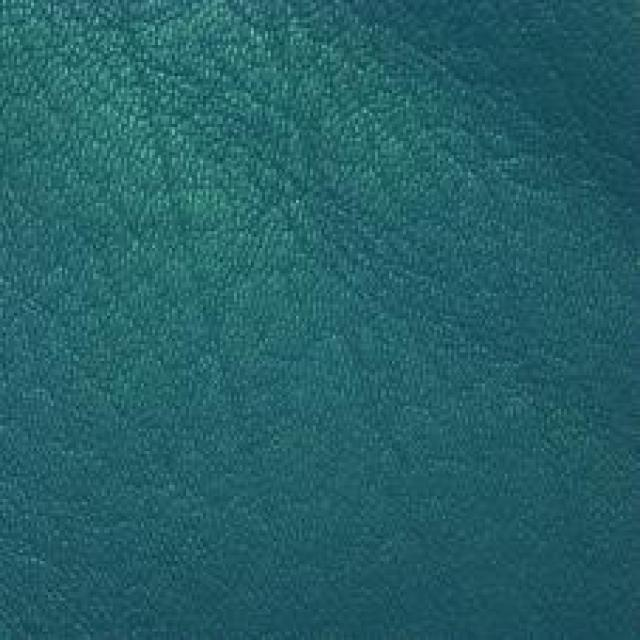Growth Marks: (113, 42, 214, 260), (156, 288, 261, 457)
